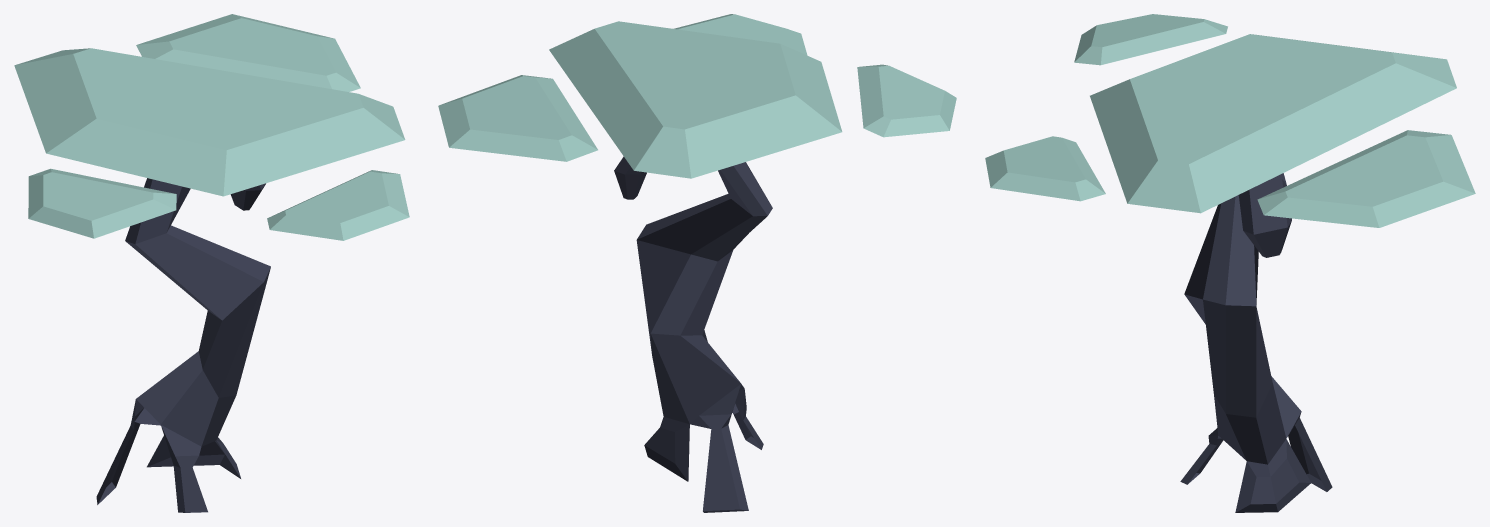
The model's file is Tree_p02.fbx.
3 views of the same model, side by side, from view 1: azimuth 30°, elevation 25°; view 2: azimuth 150°, elevation 25°; view 3: azimuth 270°, elevation 25° (orthographic). The views are drawn at different scales.
Parts seen in each view (by area): view 1: Decosol01.016; view 2: Decosol01.016; view 3: Decosol01.016.
Boxes of the visible parts, <box> form: Decosol01.016: <box>14,14,409,512</box>; Decosol01.016: <box>438,14,956,512</box>; Decosol01.016: <box>985,14,1475,512</box>.
Size of the model in its own units: 280 by 268 by 275.
